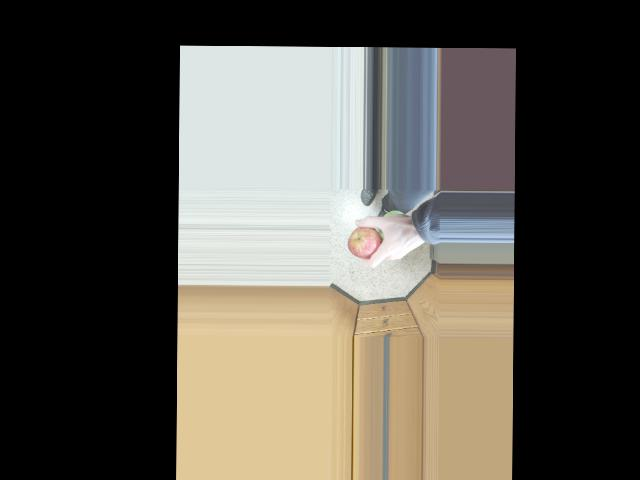apple: (346, 221, 387, 260)
